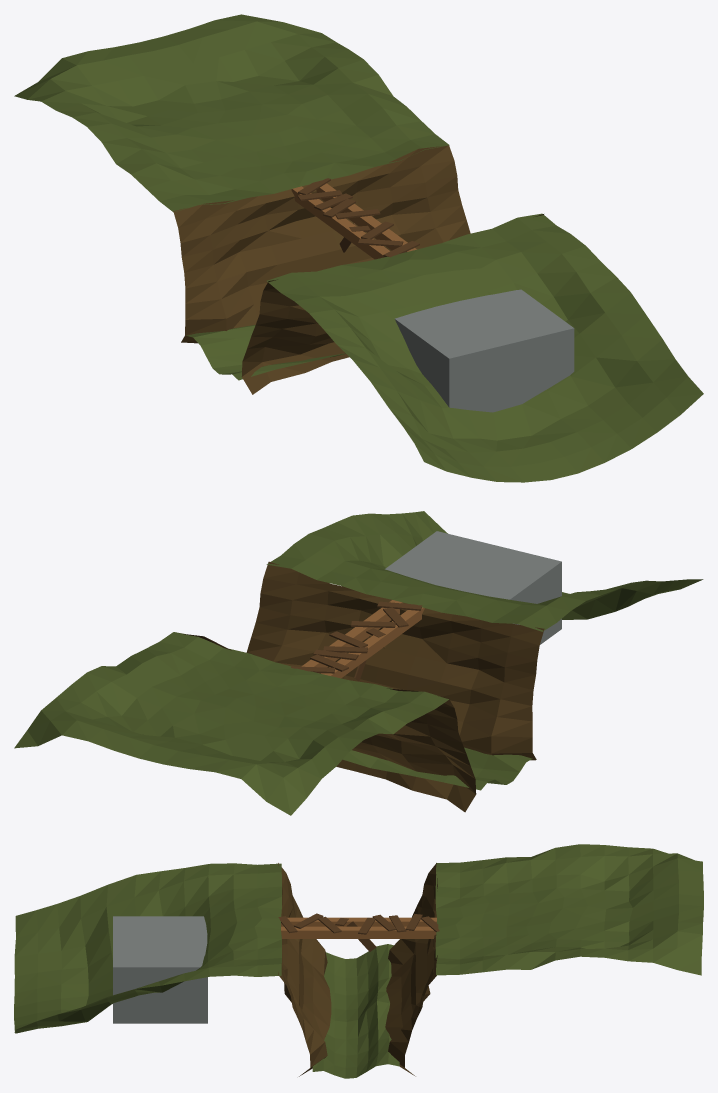
File: Environment.fbx
3 renders of one model, top to bottom at view 1: azimuth 30°, elevation 25°; view 2: azimuth 150°, elevation 25°; view 3: azimuth 270°, elevation 25°, orthographic. The views are drawn at different scales.
Parts seen in each view (by area): view 1: Plane.004, Plane, Plane.001, Cube, Plane.003, Plane.002, Cube.000, Cube.001; view 2: Plane, Plane.003, Plane.004, Cube, Plane.001, Plane.002, Cube.000, Cube.001; view 3: Plane, Plane.004, Cube, Plane.002, Plane.001, Plane.003, Cube.001, Cube.000.
Boxes of the visible parts, bbox=[...] form: Plane.004: bbox=[267, 213, 703, 482]; Plane: bbox=[14, 14, 449, 212]; Plane.001: bbox=[173, 145, 470, 343]; Cube: bbox=[395, 289, 574, 412]; Plane.003: bbox=[241, 214, 543, 394]; Plane.002: bbox=[186, 325, 345, 380]; Cube.000: bbox=[291, 186, 389, 259]; Cube.001: bbox=[316, 183, 416, 252]; Plane: bbox=[14, 632, 448, 815]; Plane.003: bbox=[246, 561, 544, 760]; Plane.004: bbox=[266, 511, 703, 631]; Cube: bbox=[385, 531, 561, 644]; Plane.001: bbox=[181, 633, 476, 812]; Plane.002: bbox=[343, 747, 532, 790]; Cube.000: bbox=[321, 607, 424, 678]; Cube.001: bbox=[301, 600, 402, 673]; Plane: bbox=[435, 844, 703, 975]; Plane.004: bbox=[14, 863, 281, 1033]; Cube: bbox=[113, 916, 207, 1023]; Plane.002: bbox=[312, 944, 399, 1078]; Plane.001: bbox=[385, 863, 437, 1076]; Plane.003: bbox=[278, 863, 331, 1076]; Cube.001: bbox=[281, 926, 436, 938]; Cube.000: bbox=[281, 917, 436, 926].
Bounding box in the file's own units: 2139 × 1087 × 5199.
